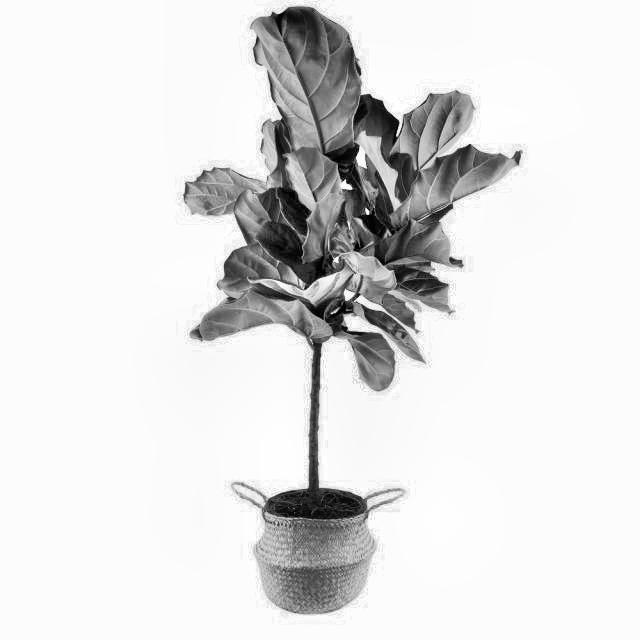plants: (174, 10, 492, 562)
